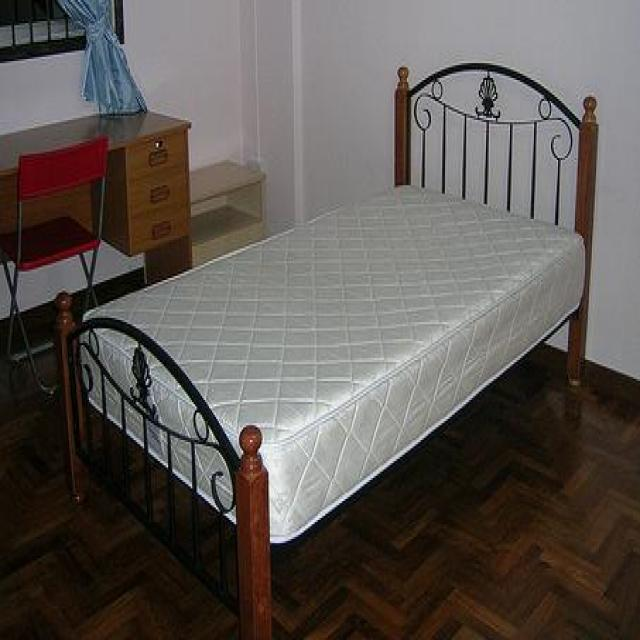bed: (52, 59, 599, 638)
chair: (0, 132, 109, 396)
table: (0, 108, 192, 286)
